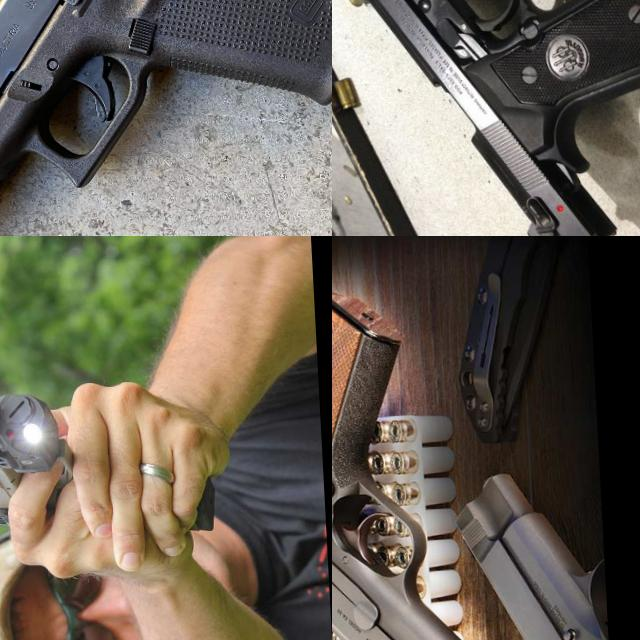handgun: (332, 271, 555, 640), (0, 0, 332, 236), (332, 0, 640, 236), (0, 370, 93, 553)
